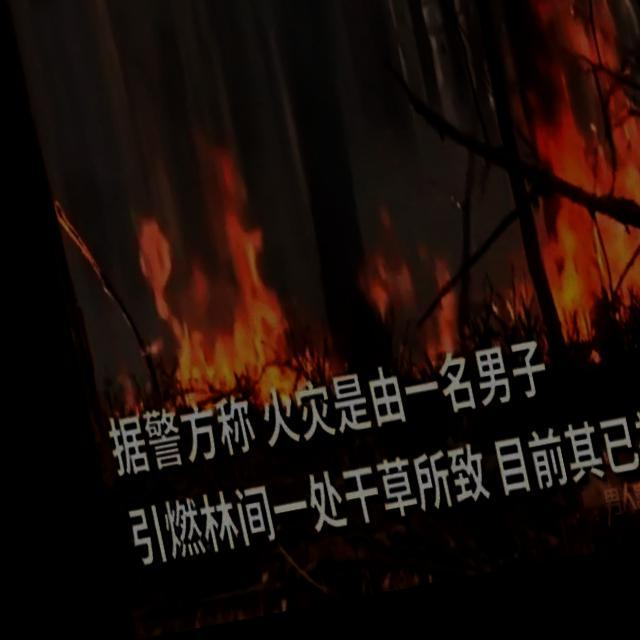Fire: (484, 0, 639, 368), (108, 138, 298, 433), (338, 231, 464, 396)
